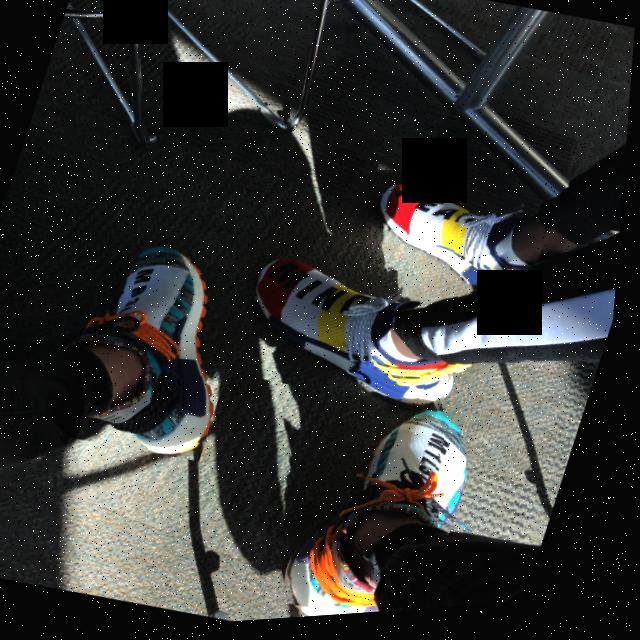shoe: (41, 226, 268, 473), (280, 389, 494, 623), (232, 245, 490, 431), (358, 170, 562, 312)
